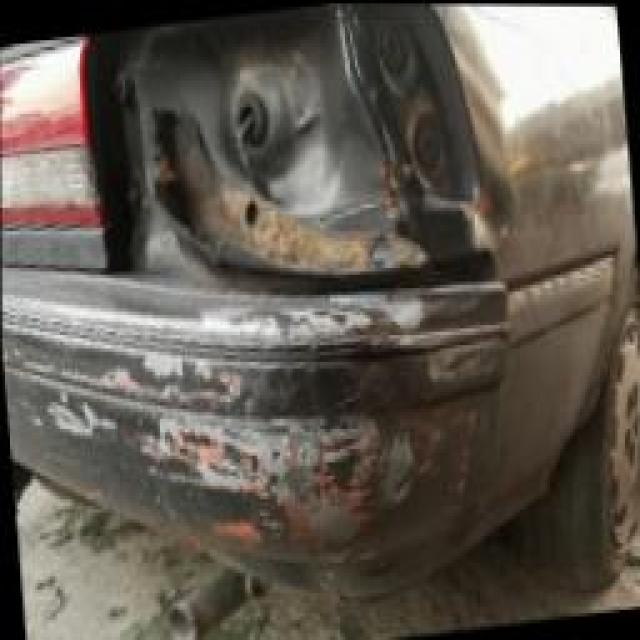Bumper: (12, 221, 509, 620)
Light: (95, 0, 464, 291)
